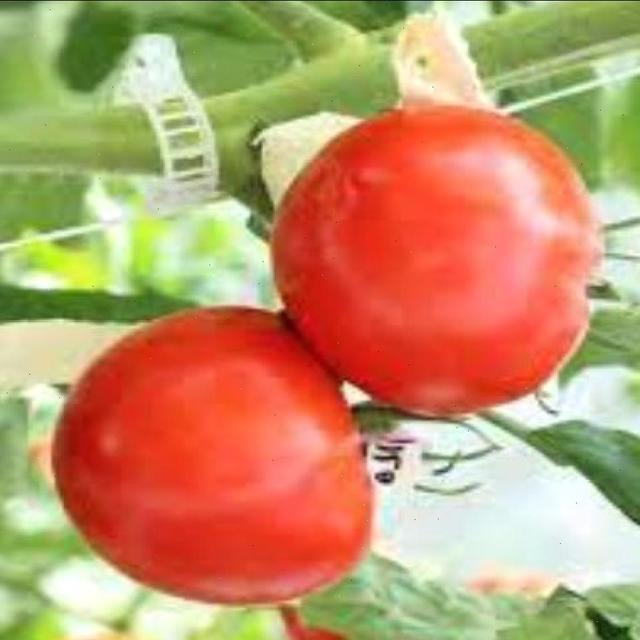Healthy Fruit: (150, 170, 285, 306)
